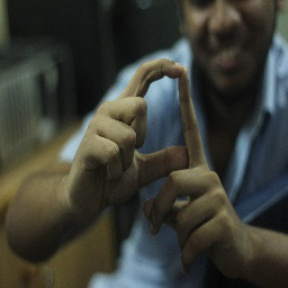D: (103, 56, 220, 201)
